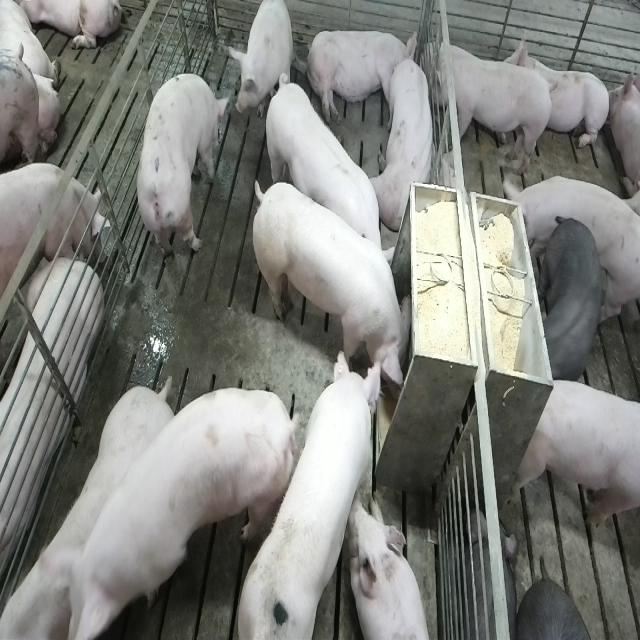Feeding: (237, 351, 395, 640), (249, 169, 416, 381), (263, 75, 411, 287)
Lateral_lying: (0, 240, 104, 575), (308, 20, 423, 122)
Sitting: (227, 0, 298, 124)
Standing: (57, 386, 299, 640), (502, 167, 640, 322), (134, 67, 230, 272), (425, 31, 559, 176), (515, 382, 640, 525), (0, 158, 110, 290), (530, 210, 606, 377)
Sternal_lying: (1, 373, 178, 640), (496, 29, 611, 161), (346, 490, 432, 640), (371, 38, 434, 222), (602, 70, 640, 188)
